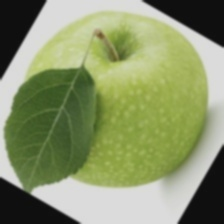apple: (38, 31, 183, 174)
